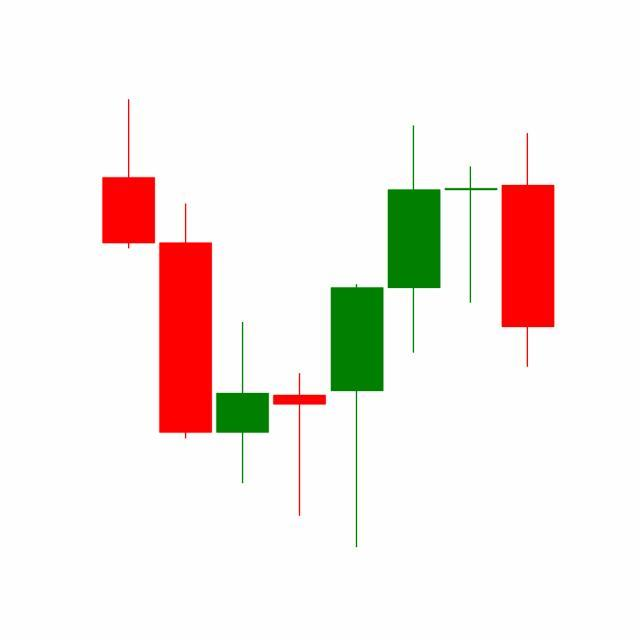Advance Block: (328, 121, 500, 549)
